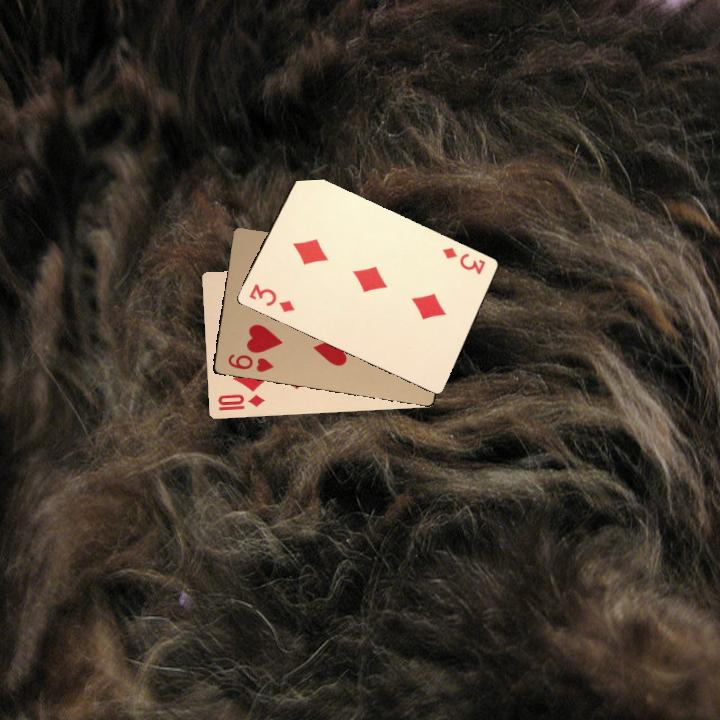10d: (214, 390, 267, 413)
3d: (245, 280, 297, 315), (438, 243, 488, 277)
6h: (224, 350, 275, 375)
